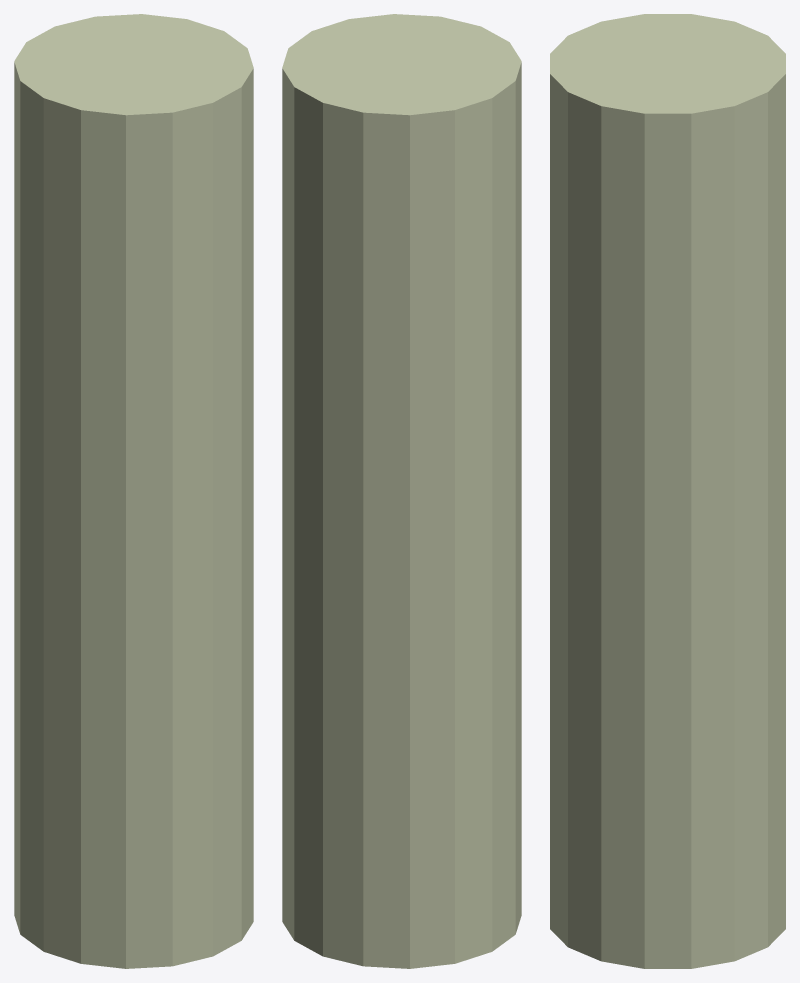
File: Arrow_SRB_0_1_Collider.obj
3 views of the same model, side by side, from view 1: azimuth 30°, elevation 25°; view 2: azimuth 150°, elevation 25°; view 3: azimuth 270°, elevation 25° (orthographic).
Parts seen in each view (by area): view 1: Arrow_SRB_0_1_Collider; view 2: Arrow_SRB_0_1_Collider; view 3: Arrow_SRB_0_1_Collider.
Part boxes in pixels (bbox=[...]): Arrow_SRB_0_1_Collider: bbox=[14, 14, 253, 968]; Arrow_SRB_0_1_Collider: bbox=[282, 14, 521, 968]; Arrow_SRB_0_1_Collider: bbox=[550, 14, 785, 968].
Size of the model in its own units: 0.625 by 2.5 by 0.625.
